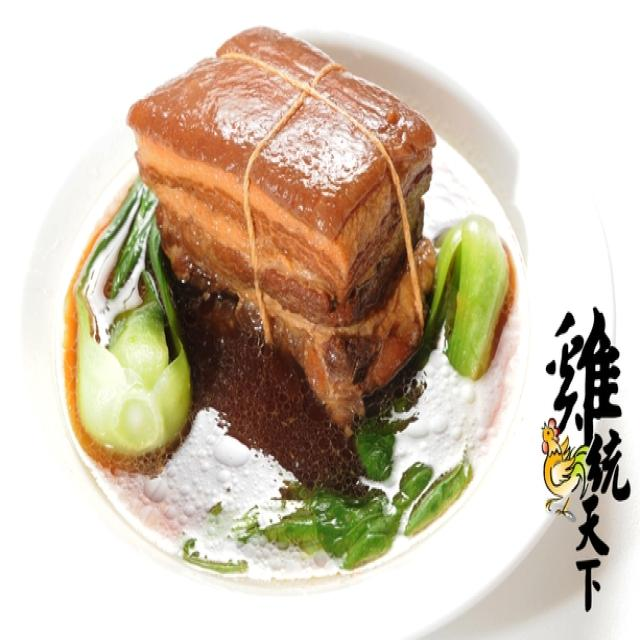牛肉菜式: (92, 18, 479, 474)
